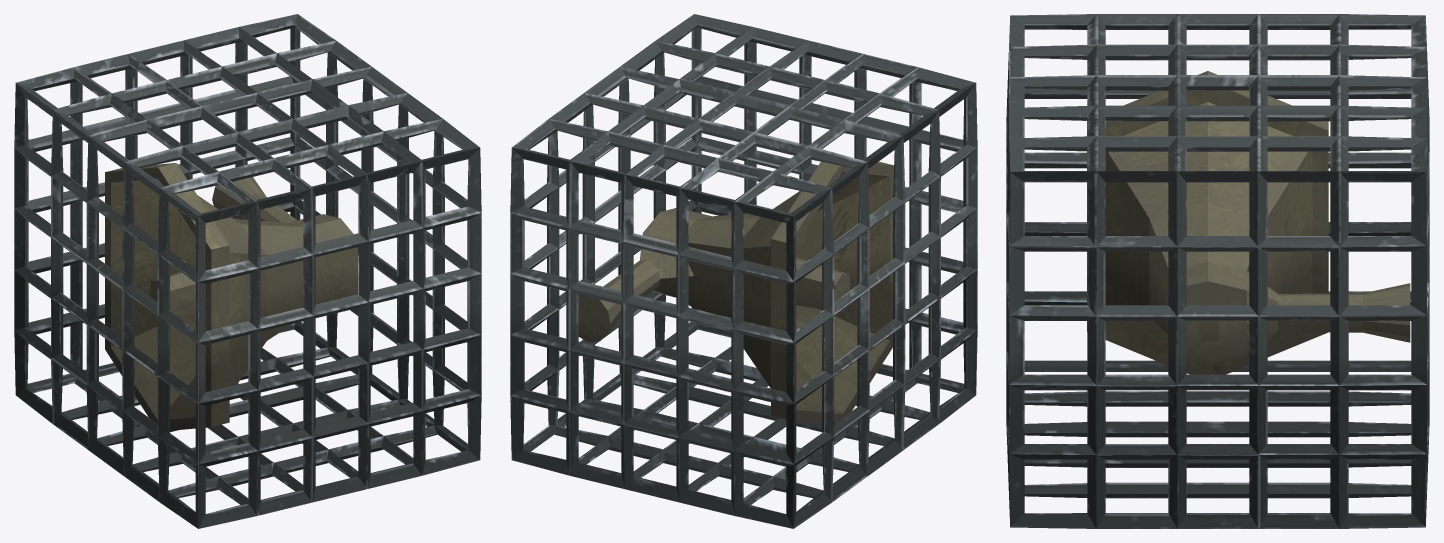
The model's file is 9-5_PAspeakers.fbx.
3 renders of one model, left to right at view 1: azimuth 30°, elevation 25°; view 2: azimuth 150°, elevation 25°; view 3: azimuth 270°, elevation 25°, orthographic. The views are drawn at different scales.
Visible parts, largest first — view 1: PA_Glass; view 2: PA_Glass; view 3: PA_Glass.
Part boxes in pixels (x1,y1,x2,y2): PA_Glass: (14, 14, 481, 528); PA_Glass: (510, 14, 977, 528); PA_Glass: (1006, 14, 1429, 528).
Size of the model in its own units: 230 by 244 by 258.
1 material, 1 textured.
